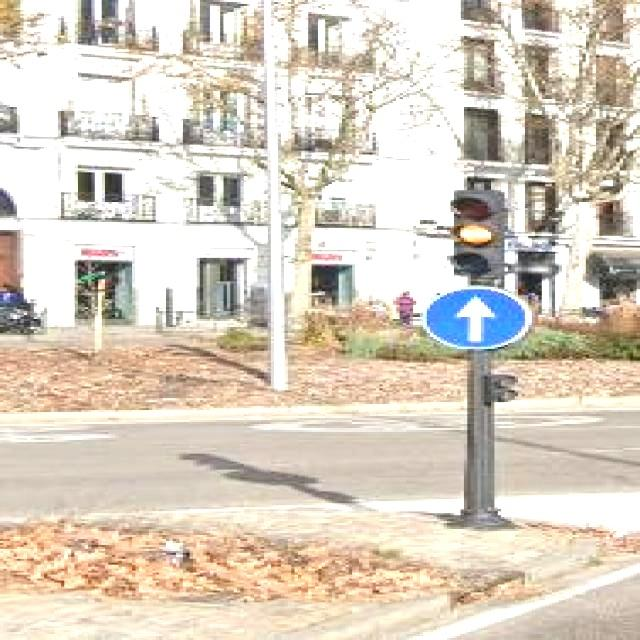Yellow: (454, 188, 499, 274)
